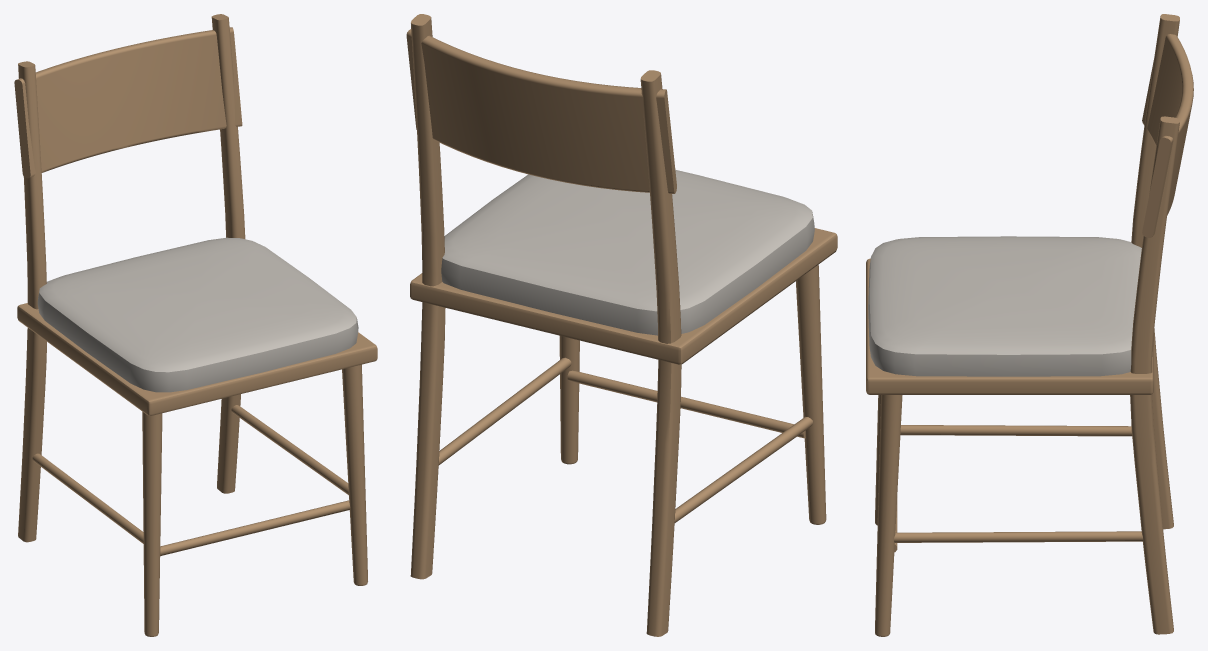
The model's file is DiningChair.fbx.
The picture shows the model from 3 angles, left to right: view 1: azimuth 30°, elevation 25°; view 2: azimuth 150°, elevation 25°; view 3: azimuth 270°, elevation 25°; orthographic projection. The views are drawn at different scales.
Parts seen in each view (by area): view 1: DiningChairMesh; view 2: DiningChairMesh; view 3: DiningChairMesh.
Part boxes in pixels (box(x1,y1,x2,y2)): DiningChairMesh: box(14, 14, 377, 636); DiningChairMesh: box(406, 14, 837, 636); DiningChairMesh: box(866, 14, 1193, 636).
Bounding box in the file's own units: 0.44 × 0.862 × 0.501.
